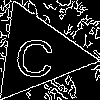C: (13, 28, 58, 79)
